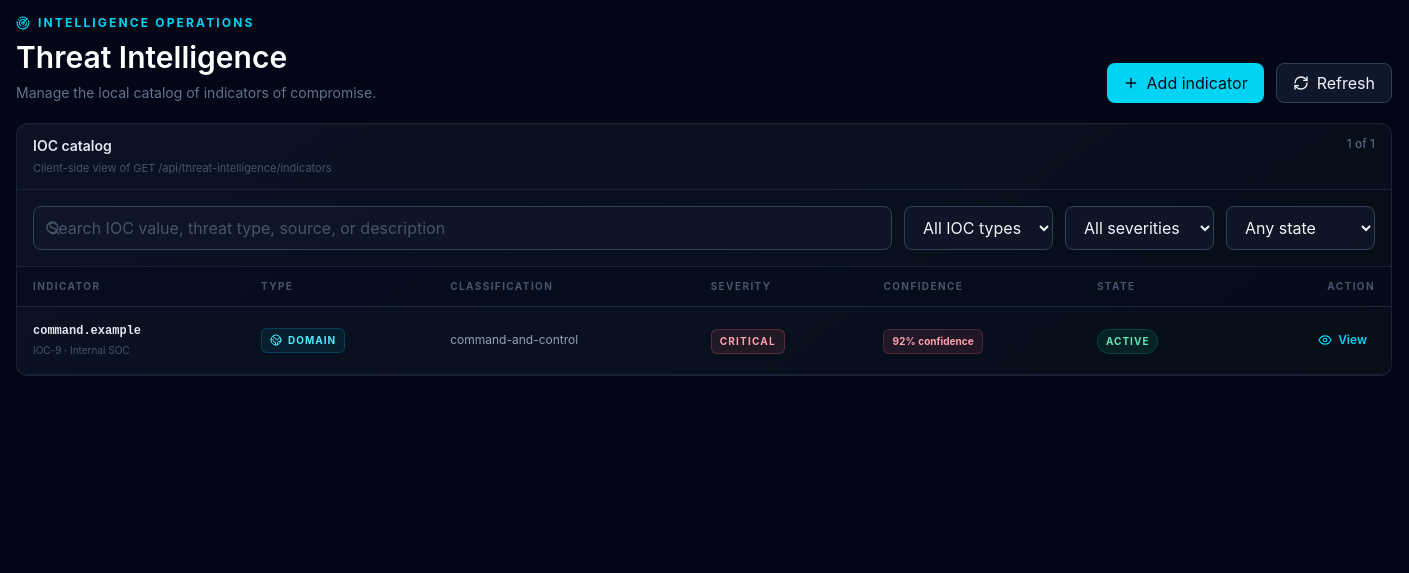
Test: ThreatIntelligencePage › filters the returned indicator dataset client-side
Type "not-present" into the field named "Search indicators". click: (462, 228)
box: [33,206,892,250]
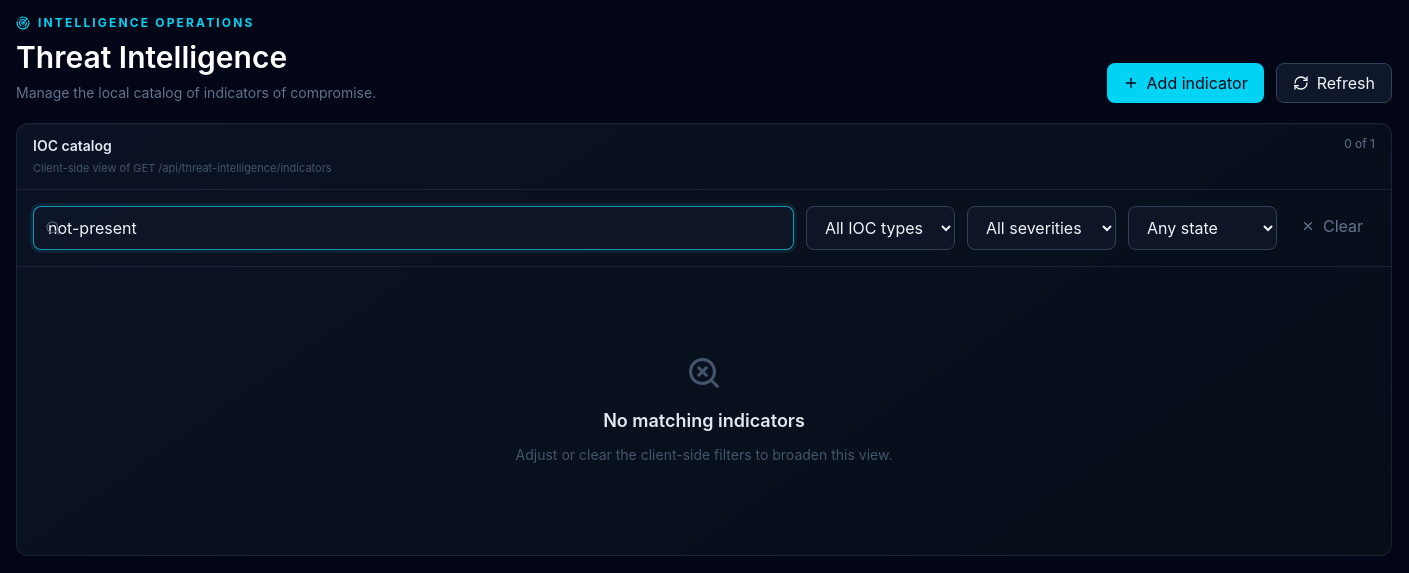
Check: the heading "No matching indicators" is shown, box [603,410,805,430]
